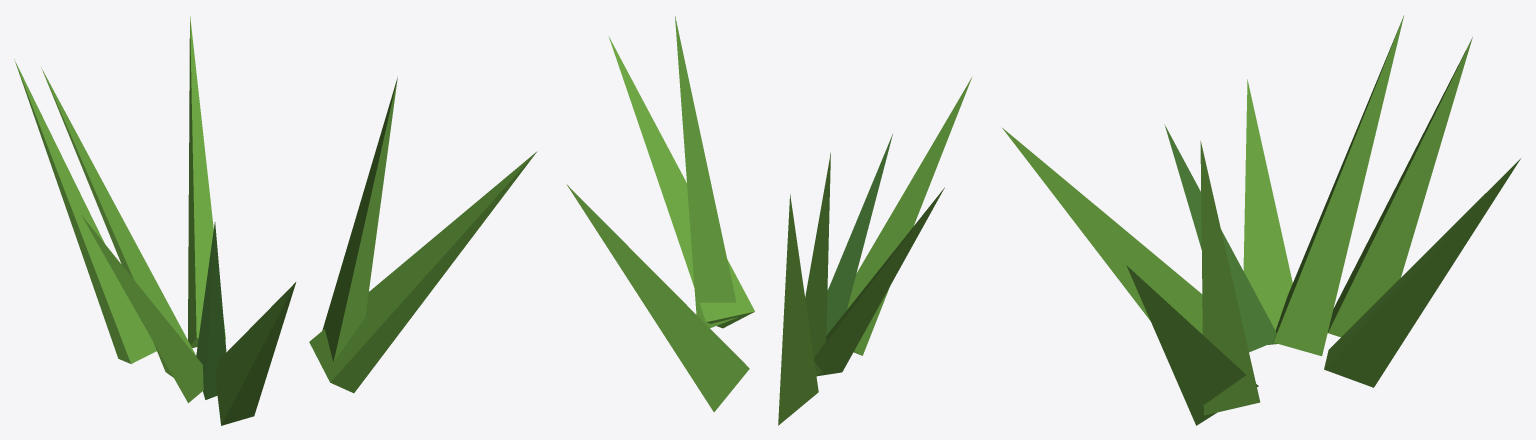
The model's file is HS_LP_Grass_02.fbx.
3 renders of one model, left to right at view 1: azimuth 30°, elevation 25°; view 2: azimuth 150°, elevation 25°; view 3: azimuth 270°, elevation 25°, orthographic.
Visible parts, largest first — view 1: HS_LP_Grass_02; view 2: HS_LP_Grass_02; view 3: HS_LP_Grass_02.
Boxes of the visible parts, x1,y1,x2,y2 form: HS_LP_Grass_02: (14,16,537,425); HS_LP_Grass_02: (566,16,971,425); HS_LP_Grass_02: (1002,15,1520,425).
Bounding box in the file's own units: 29.84 × 21.95 × 33.38.
